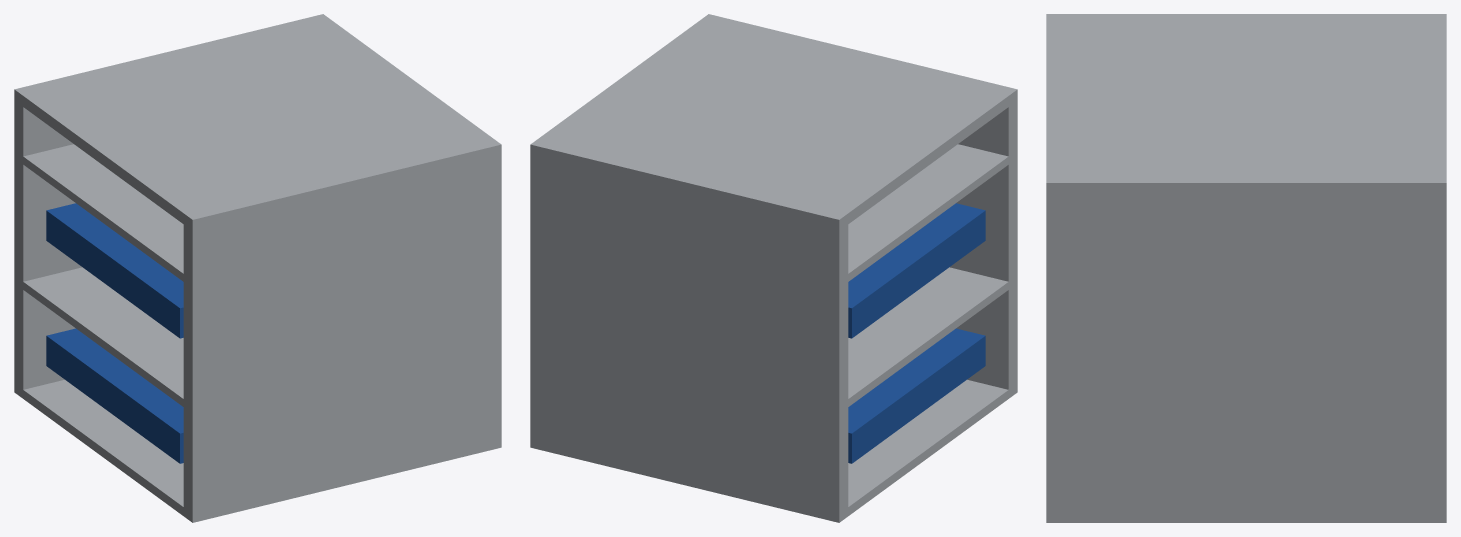
The model's file is L130_REAR_USB3.fbx.
The picture shows the model from 3 angles, left to right: view 1: azimuth 30°, elevation 25°; view 2: azimuth 150°, elevation 25°; view 3: azimuth 270°, elevation 25°; orthographic projection. The views are drawn at different scales.
Parts seen in each view (by area): view 1: REAR_USB3__Steel, REAR_USB3__Blue; view 2: REAR_USB3__Steel, REAR_USB3__Blue; view 3: REAR_USB3__Steel.
Boxes of the visible parts, bbox=[...] form: REAR_USB3__Steel: bbox=[14, 14, 501, 522]; REAR_USB3__Blue: bbox=[46, 203, 183, 463]; REAR_USB3__Steel: bbox=[530, 14, 1017, 522]; REAR_USB3__Blue: bbox=[848, 203, 985, 463]; REAR_USB3__Steel: bbox=[1046, 14, 1446, 522].
Size of the model in its own units: 16 by 15 by 16.
